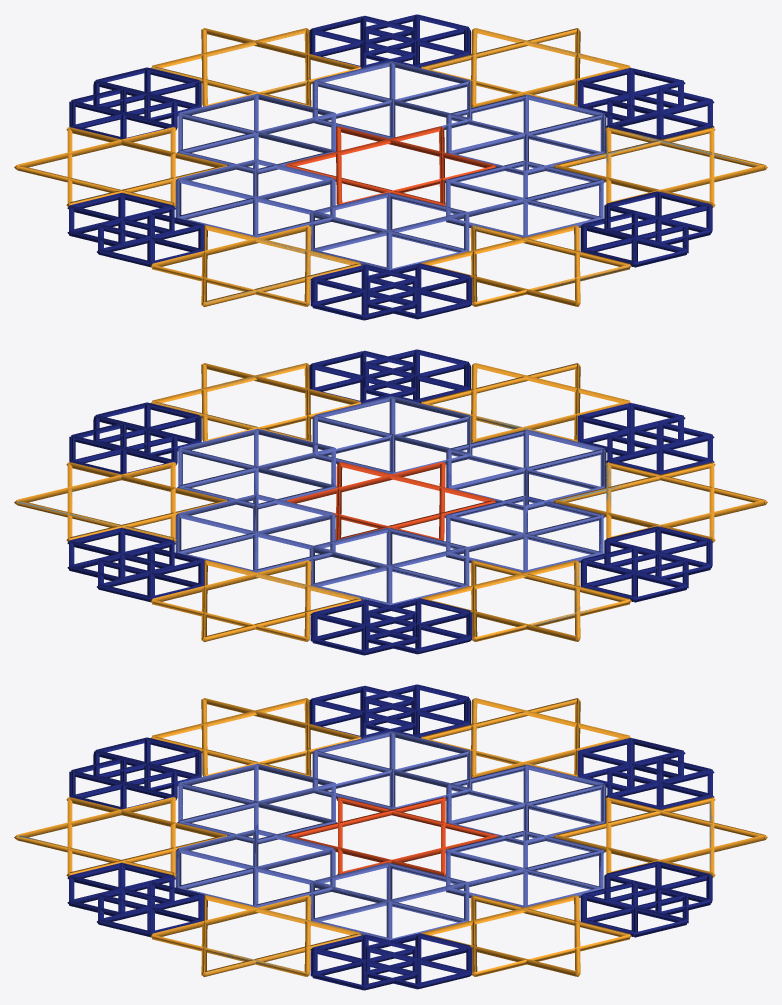
The model's file is ceilingAnimation.glb.
The picture shows the model from 3 angles, top to bottom: view 1: azimuth 30°, elevation 25°; view 2: azimuth 150°, elevation 25°; view 3: azimuth 270°, elevation 25°; orthographic projection.
Parts seen in each view (by area): view 1: Atom_Array_3_2, Cloner_2_2_5, Cloner_1_3, Atom_Array_3_1_2, Cloner_2_4, Cloner_2_1_3, Atom_Array_3_1_3, Atom_Array_3_2_2, Atom_Array_3_0, Cloner_0, Atom_Array_3_1, Cloner_2_2_2 (+14 smaller); view 2: Cloner_2_2_5, Atom_Array_3_1, Cloner_1_3, Cloner_2_4, Atom_Array_3_2_2, Atom_Array_3_1_3, Cloner_2_1_3, Atom_Array_3_2_3, Atom_Array_3_0, Cloner_0, Cloner_1, Atom_Array_3_2 (+14 smaller); view 3: Atom_Array_3_1, Cloner_2_4, Cloner_2_1_3, Cloner_2_2_5, Cloner_1_3, Atom_Array_3_2_3, Atom_Array_3_2, Atom_Array_3_1_2, Cloner_0, Cloner_1, Cloner_2_1, Cloner_2_2_2 (+14 smaller).
Part boxes in pixels (x1,y1,x2,y2): Atom_Array_3_2: (68, 15, 712, 319); Cloner_2_2_5: (176, 61, 603, 270); Cloner_1_3: (22, 28, 767, 306); Atom_Array_3_1_2: (73, 14, 714, 319); Cloner_2_4: (14, 28, 711, 306); Cloner_2_1_3: (175, 61, 606, 270); Atom_Array_3_1_3: (69, 14, 710, 320); Atom_Array_3_2_2: (67, 14, 712, 319); Atom_Array_3_0: (69, 15, 708, 319); Cloner_0: (35, 28, 714, 306); Atom_Array_3_1: (70, 15, 711, 320); Cloner_2_2_2: (176, 61, 603, 268); Cloner_2_2_5: (176, 396, 604, 605); Atom_Array_3_1: (69, 349, 710, 655); Cloner_1_3: (67, 363, 767, 641); Cloner_2_4: (14, 363, 748, 641); Atom_Array_3_2_2: (68, 350, 712, 654); Atom_Array_3_1_3: (73, 349, 714, 654); Cloner_2_1_3: (175, 396, 606, 604); Atom_Array_3_2_3: (67, 349, 712, 654); Atom_Array_3_0: (69, 350, 712, 653); Cloner_0: (19, 363, 735, 641); Cloner_1: (50, 363, 765, 641); Atom_Array_3_2: (68, 350, 712, 654); Atom_Array_3_1: (73, 684, 714, 989); Cloner_2_4: (14, 698, 714, 976); Cloner_2_1_3: (175, 731, 606, 940); Cloner_2_2_5: (177, 731, 603, 940); Cloner_1_3: (32, 698, 767, 976); Atom_Array_3_2_3: (68, 684, 712, 989); Atom_Array_3_2: (67, 684, 712, 989); Atom_Array_3_1_2: (69, 684, 710, 990); Cloner_0: (52, 698, 759, 975); Cloner_1: (16, 698, 764, 976); Cloner_2_1: (176, 731, 604, 939); Cloner_2_2_2: (176, 732, 603, 934).
Size of the model in its own units: 4.01 by 0.0352 by 4.23.
Materials: 1 (1 with a texture image).
